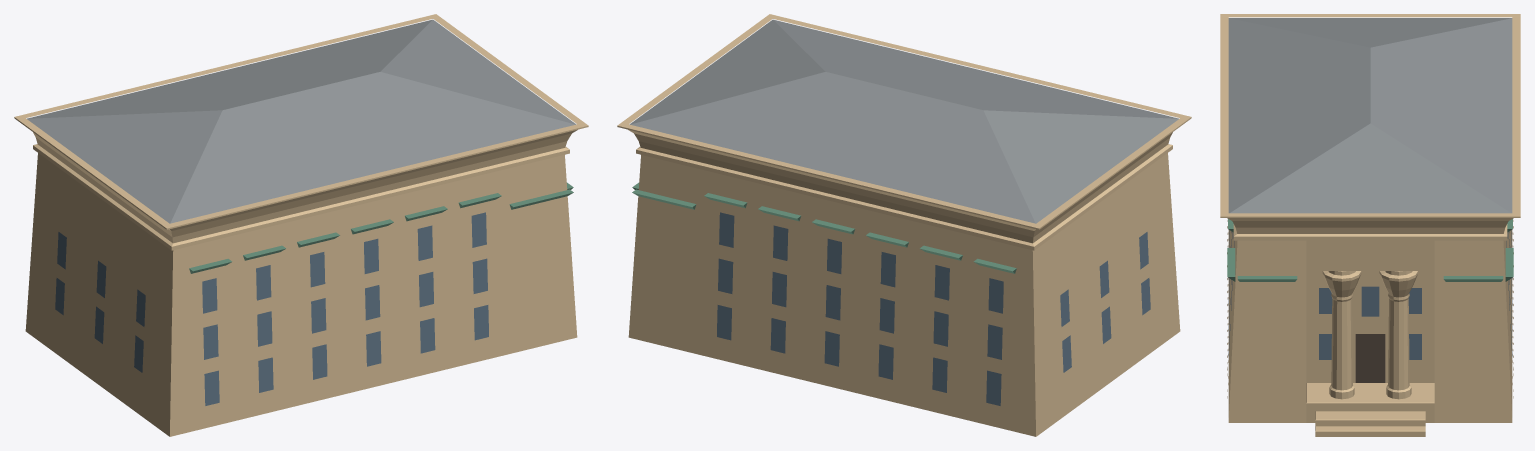
File: ric-egyptian-building.glb
The picture shows the model from 3 angles, left to right: view 1: azimuth 30°, elevation 25°; view 2: azimuth 150°, elevation 25°; view 3: azimuth 270°, elevation 25°; orthographic projection.
Parts seen in each view (by area): view 1: Egyptian Building; view 2: Egyptian Building; view 3: Egyptian Building.
Boxes of the visible parts, x1,y1,x2,y2 form: Egyptian Building: (14, 14, 588, 436); Egyptian Building: (617, 14, 1191, 436); Egyptian Building: (1220, 14, 1520, 436).
Size of the model in its own units: 33.75 by 17.7 by 20.1.
